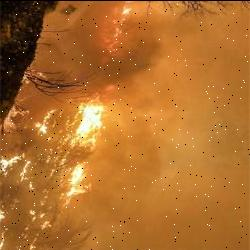fire: (0, 83, 136, 250), (35, 0, 151, 80)
